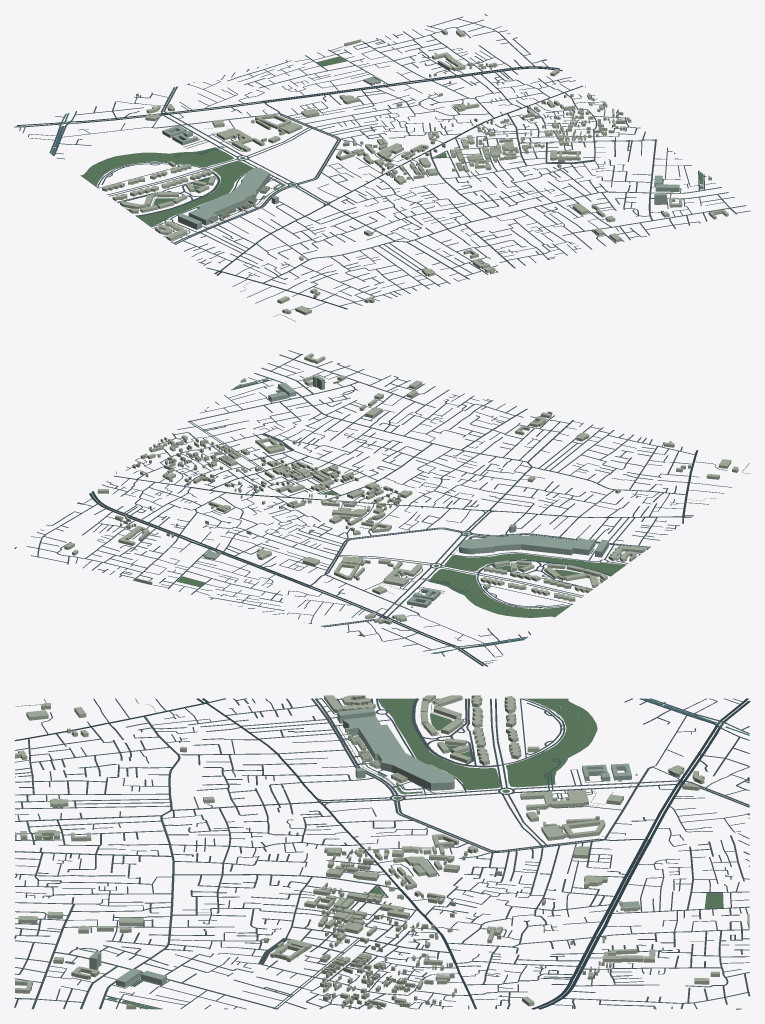
The picture shows the model from 3 angles, top to bottom: view 1: azimuth 30°, elevation 25°; view 2: azimuth 150°, elevation 25°; view 3: azimuth 270°, elevation 25°; orthographic projection. The views are drawn at different scales.
Parts seen in each view (by area): view 1: street, building, green, building-tagged, major; view 2: street, building, green, building-tagged, major; view 3: street, building, green, building-tagged, major, path.
Part boxes in pixels (x1,y1,x2,y2): street: [19, 14, 750, 309]; building: [100, 29, 728, 315]; green: [80, 56, 703, 273]; building-tagged: [162, 76, 679, 229]; major: [14, 66, 583, 309]; street: [14, 350, 731, 663]; building: [64, 353, 738, 636]; green: [177, 379, 625, 617]; building-tagged: [204, 375, 608, 607]; major: [89, 450, 698, 666]; street: [14, 698, 750, 1009]; building: [15, 695, 749, 1009]; green: [15, 698, 723, 1009]; building-tagged: [89, 707, 640, 987]; major: [14, 698, 750, 1009]; path: [15, 698, 727, 970].
Size of the model in its own units: 2006 by 43.4 by 2006.
